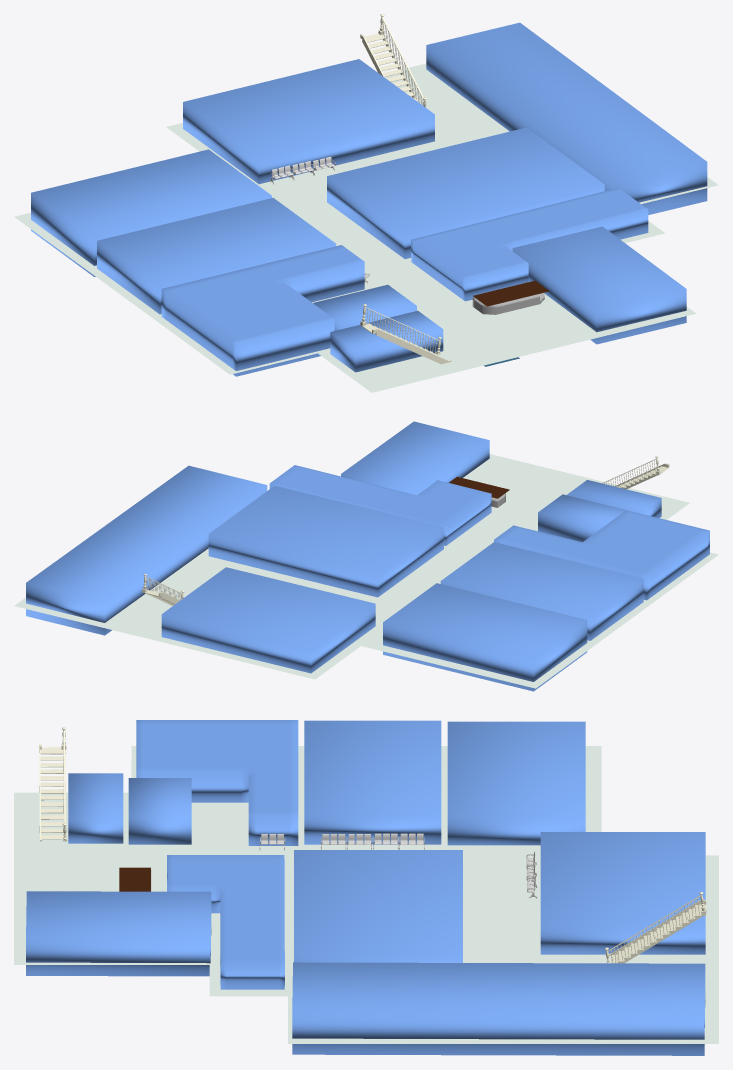
The model's file is mapfirsttry.glb.
3 renders of one model, top to bottom at view 1: azimuth 30°, elevation 25°; view 2: azimuth 150°, elevation 25°; view 3: azimuth 270°, elevation 25°, orthographic. The views are drawn at different scales.
Visible parts, largest first — view 1: Platform, Business Licensing office.001, Restroom, Office of The city treasurer, Agriculture office and biosystem, Civil Registry office, Office of City supply officer, Business Licensing office, City Asssesor office, Negosyo Center, City Transportation Registration office, Backdoor Stairs (+3 smaller); view 2: Platform, Business Licensing office.001, Office of The city treasurer, Restroom, Civil Registry office, Office of City supply officer, Agriculture office and biosystem, City Asssesor office, Business Licensing office, City Transportation Registration office, Negosyo Center, Entrance stairs (+2 smaller); view 3: Business Licensing office.001, Platform, Office of The city treasurer, Restroom, Civil Registry office, Office of City supply officer, Business Licensing office, Agriculture office and biosystem, City Asssesor office, City Transportation Registration office, Negosyo Center, Entrance stairs (+2 smaller).
Part boxes in pixels (left/top/right/bottom): Platform: left=14, top=63, right=718, bottom=392; Business Licensing office.001: left=426, top=22, right=707, bottom=214; Restroom: left=183, top=59, right=434, bottom=184; Office of The city treasurer: left=327, top=127, right=604, bottom=259; Agriculture office and biosystem: left=161, top=245, right=364, bottom=376; Civil Registry office: left=31, top=149, right=271, bottom=276; Office of City supply officer: left=97, top=197, right=336, bottom=314; Business Licensing office: left=512, top=226, right=686, bottom=344; City Asssesor office: left=411, top=188, right=648, bottom=301; Negosyo Center: left=330, top=310, right=443, bottom=372; City Transportation Registration office: left=313, top=284, right=416, bottom=330; Backdoor Stairs: left=360, top=14, right=427, bottom=107; Platform: left=14, top=454, right=718, bottom=688; Business Licensing office.001: left=26, top=465, right=267, bottom=635; Office of The city treasurer: left=208, top=485, right=443, bottom=597; Restroom: left=161, top=567, right=375, bottom=673; Civil Registry office: left=383, top=583, right=587, bottom=691; Office of City supply officer: left=440, top=542, right=643, bottom=640; Agriculture office and biosystem: left=494, top=510, right=709, bottom=600; City Asssesor office: left=269, top=465, right=491, bottom=545; Business Licensing office: left=341, top=421, right=489, bottom=495; City Transportation Registration office: left=538, top=494, right=625, bottom=542; Negosyo Center: left=566, top=480, right=661, bottom=518; Entrance stairs: left=602, top=456, right=669, bottom=489; Business Licensing office.001: left=292, top=962, right=705, bottom=1055; Platform: left=14, top=746, right=718, bottom=1043; Office of The city treasurer: left=294, top=850, right=462, bottom=962; Restroom: left=540, top=832, right=705, bottom=954; Civil Registry office: left=447, top=721, right=585, bottom=845; Office of City supply officer: left=304, top=720, right=441, bottom=844; Business Licensing office: left=26, top=891, right=211, bottom=976; Agriculture office and biosystem: left=136, top=720, right=298, bottom=845; City Asssesor office: left=167, top=855, right=284, bottom=989; City Transportation Registration office: left=128, top=778, right=191, bottom=844; Negosyo Center: left=68, top=773, right=123, bottom=843; Entrance stairs: left=39, top=727, right=67, bottom=841.
Bounding box in the file's own units: 3.7 × 0.5192 × 3.7.
Materials: 18 (1 with a texture image).
